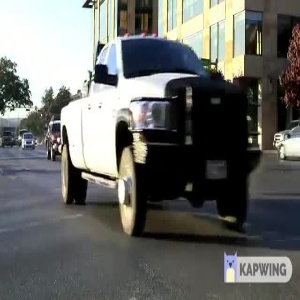truck: (54, 35, 263, 239)
